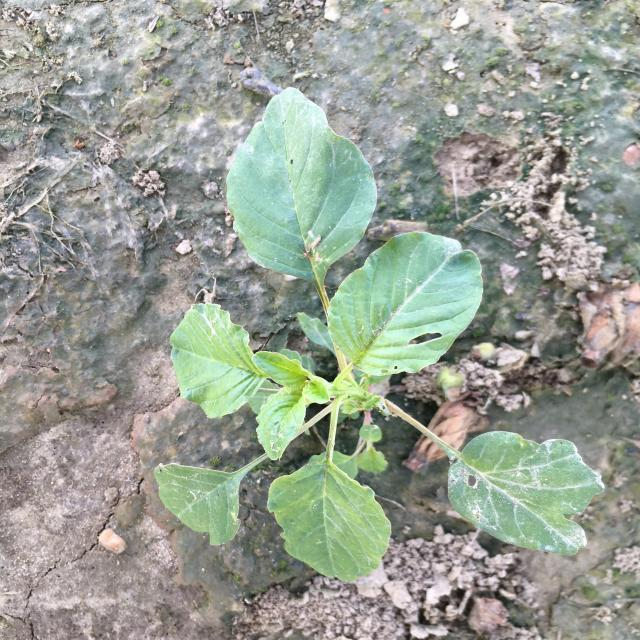PalmerAmaranth: (154, 87, 606, 583)
